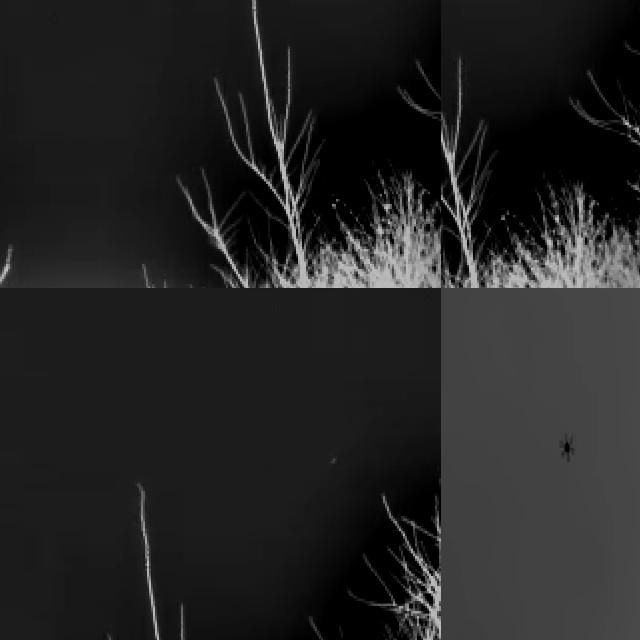0: (317, 448, 343, 478)
drone: (554, 424, 582, 466)
